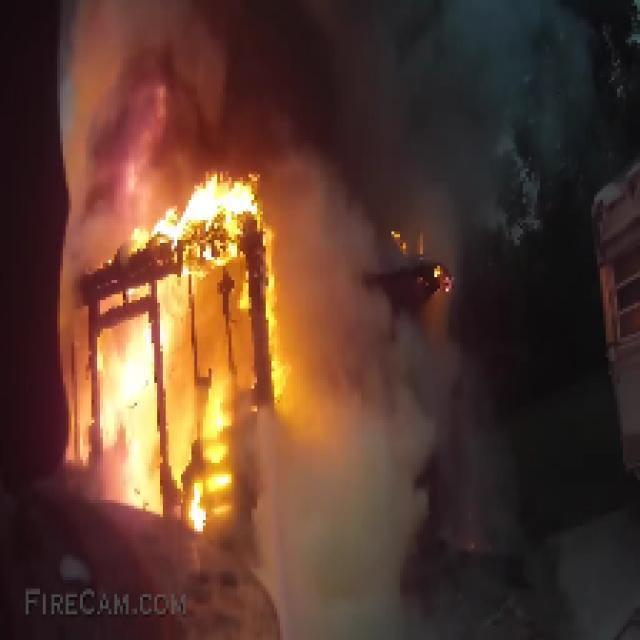Fire: (71, 168, 323, 538), (69, 5, 328, 168)
Smoke: (255, 151, 454, 640)
